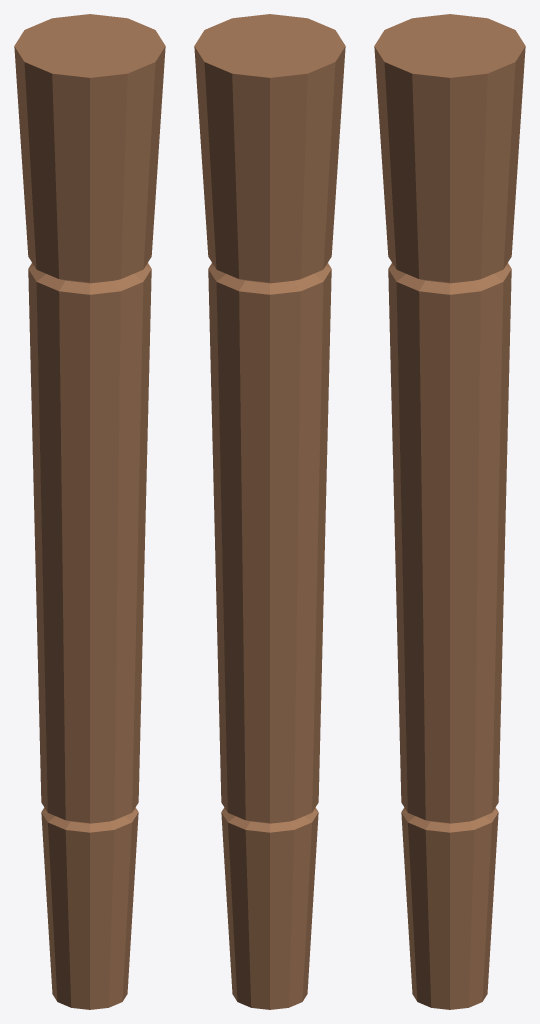
The model's file is SM_wooden_rod_01.fbx.
The picture shows the model from 3 angles, left to right: view 1: azimuth 30°, elevation 25°; view 2: azimuth 150°, elevation 25°; view 3: azimuth 270°, elevation 25°; orthographic projection.
Visible parts, largest first — view 1: wooden_rod_01; view 2: wooden_rod_01; view 3: wooden_rod_01.
Boxes of the visible parts, x1=… form: wooden_rod_01: x1=14, y1=14, x2=165, y2=1009; wooden_rod_01: x1=194, y1=14, x2=345, y2=1009; wooden_rod_01: x1=374, y1=14, x2=525, y2=1009.
Bounding box in the file's own units: 23.08 × 160 × 23.08.
